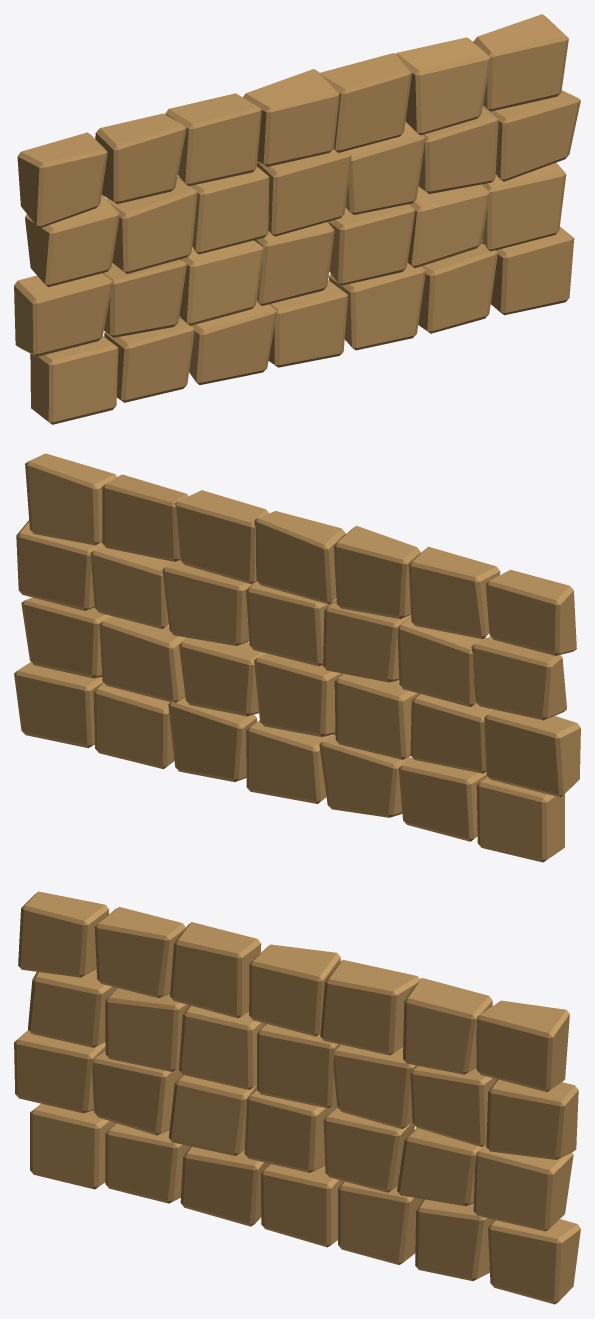
File: BrickWallEgypt2_Low.fbx
3 views of the same model, one above another, from view 1: azimuth 30°, elevation 25°; view 2: azimuth 150°, elevation 25°; view 3: azimuth 330°, elevation 25° (orthographic).
Parts seen in each view (by area): view 1: Outsidewall2; view 2: Outsidewall2; view 3: Outsidewall2.
Boxes of the visible parts, left/top/right/bottom form: Outsidewall2: left=14, top=14, right=580, bottom=424; Outsidewall2: left=14, top=453, right=580, bottom=862; Outsidewall2: left=14, top=891, right=580, bottom=1304.
Size of the model in its own units: 758 by 367 by 58.61.
